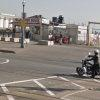Motorcycle: (69, 49, 100, 95)
